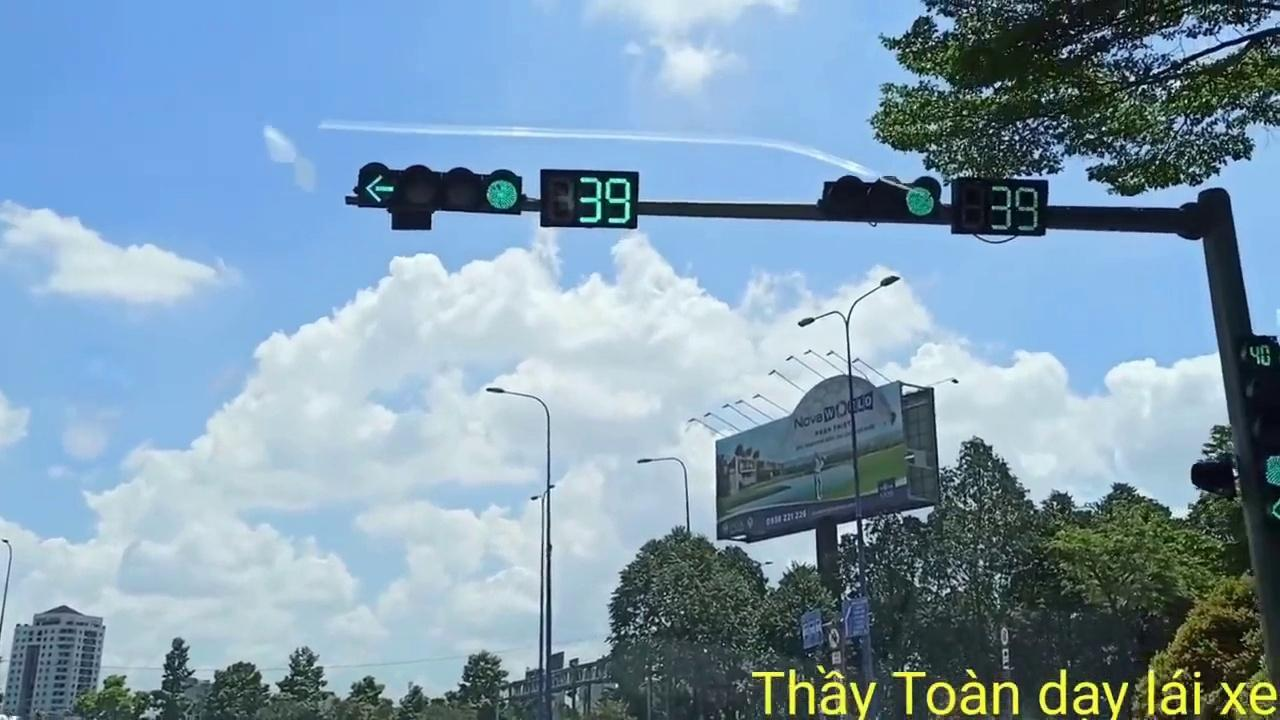Biển phụ: (1000, 647, 1010, 670)
Chỉ hướng đường: (840, 596, 870, 637)
Cấm xe máy: (827, 626, 842, 652)
Làn đường cho từng xe: (799, 608, 825, 650)
